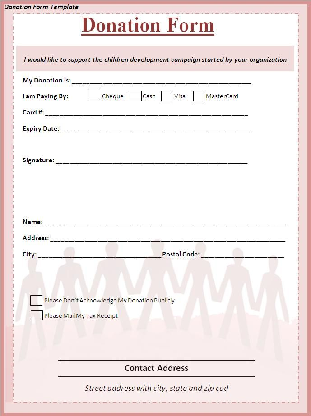checkbox: (28, 293, 44, 307), (158, 89, 174, 103), (29, 309, 44, 323), (128, 88, 143, 102), (86, 88, 102, 101), (191, 89, 207, 102)
textline: (41, 212, 286, 227), (53, 149, 250, 166), (43, 104, 249, 118), (48, 231, 287, 243), (59, 121, 251, 134), (69, 75, 251, 86), (36, 247, 162, 260), (199, 246, 286, 260)
